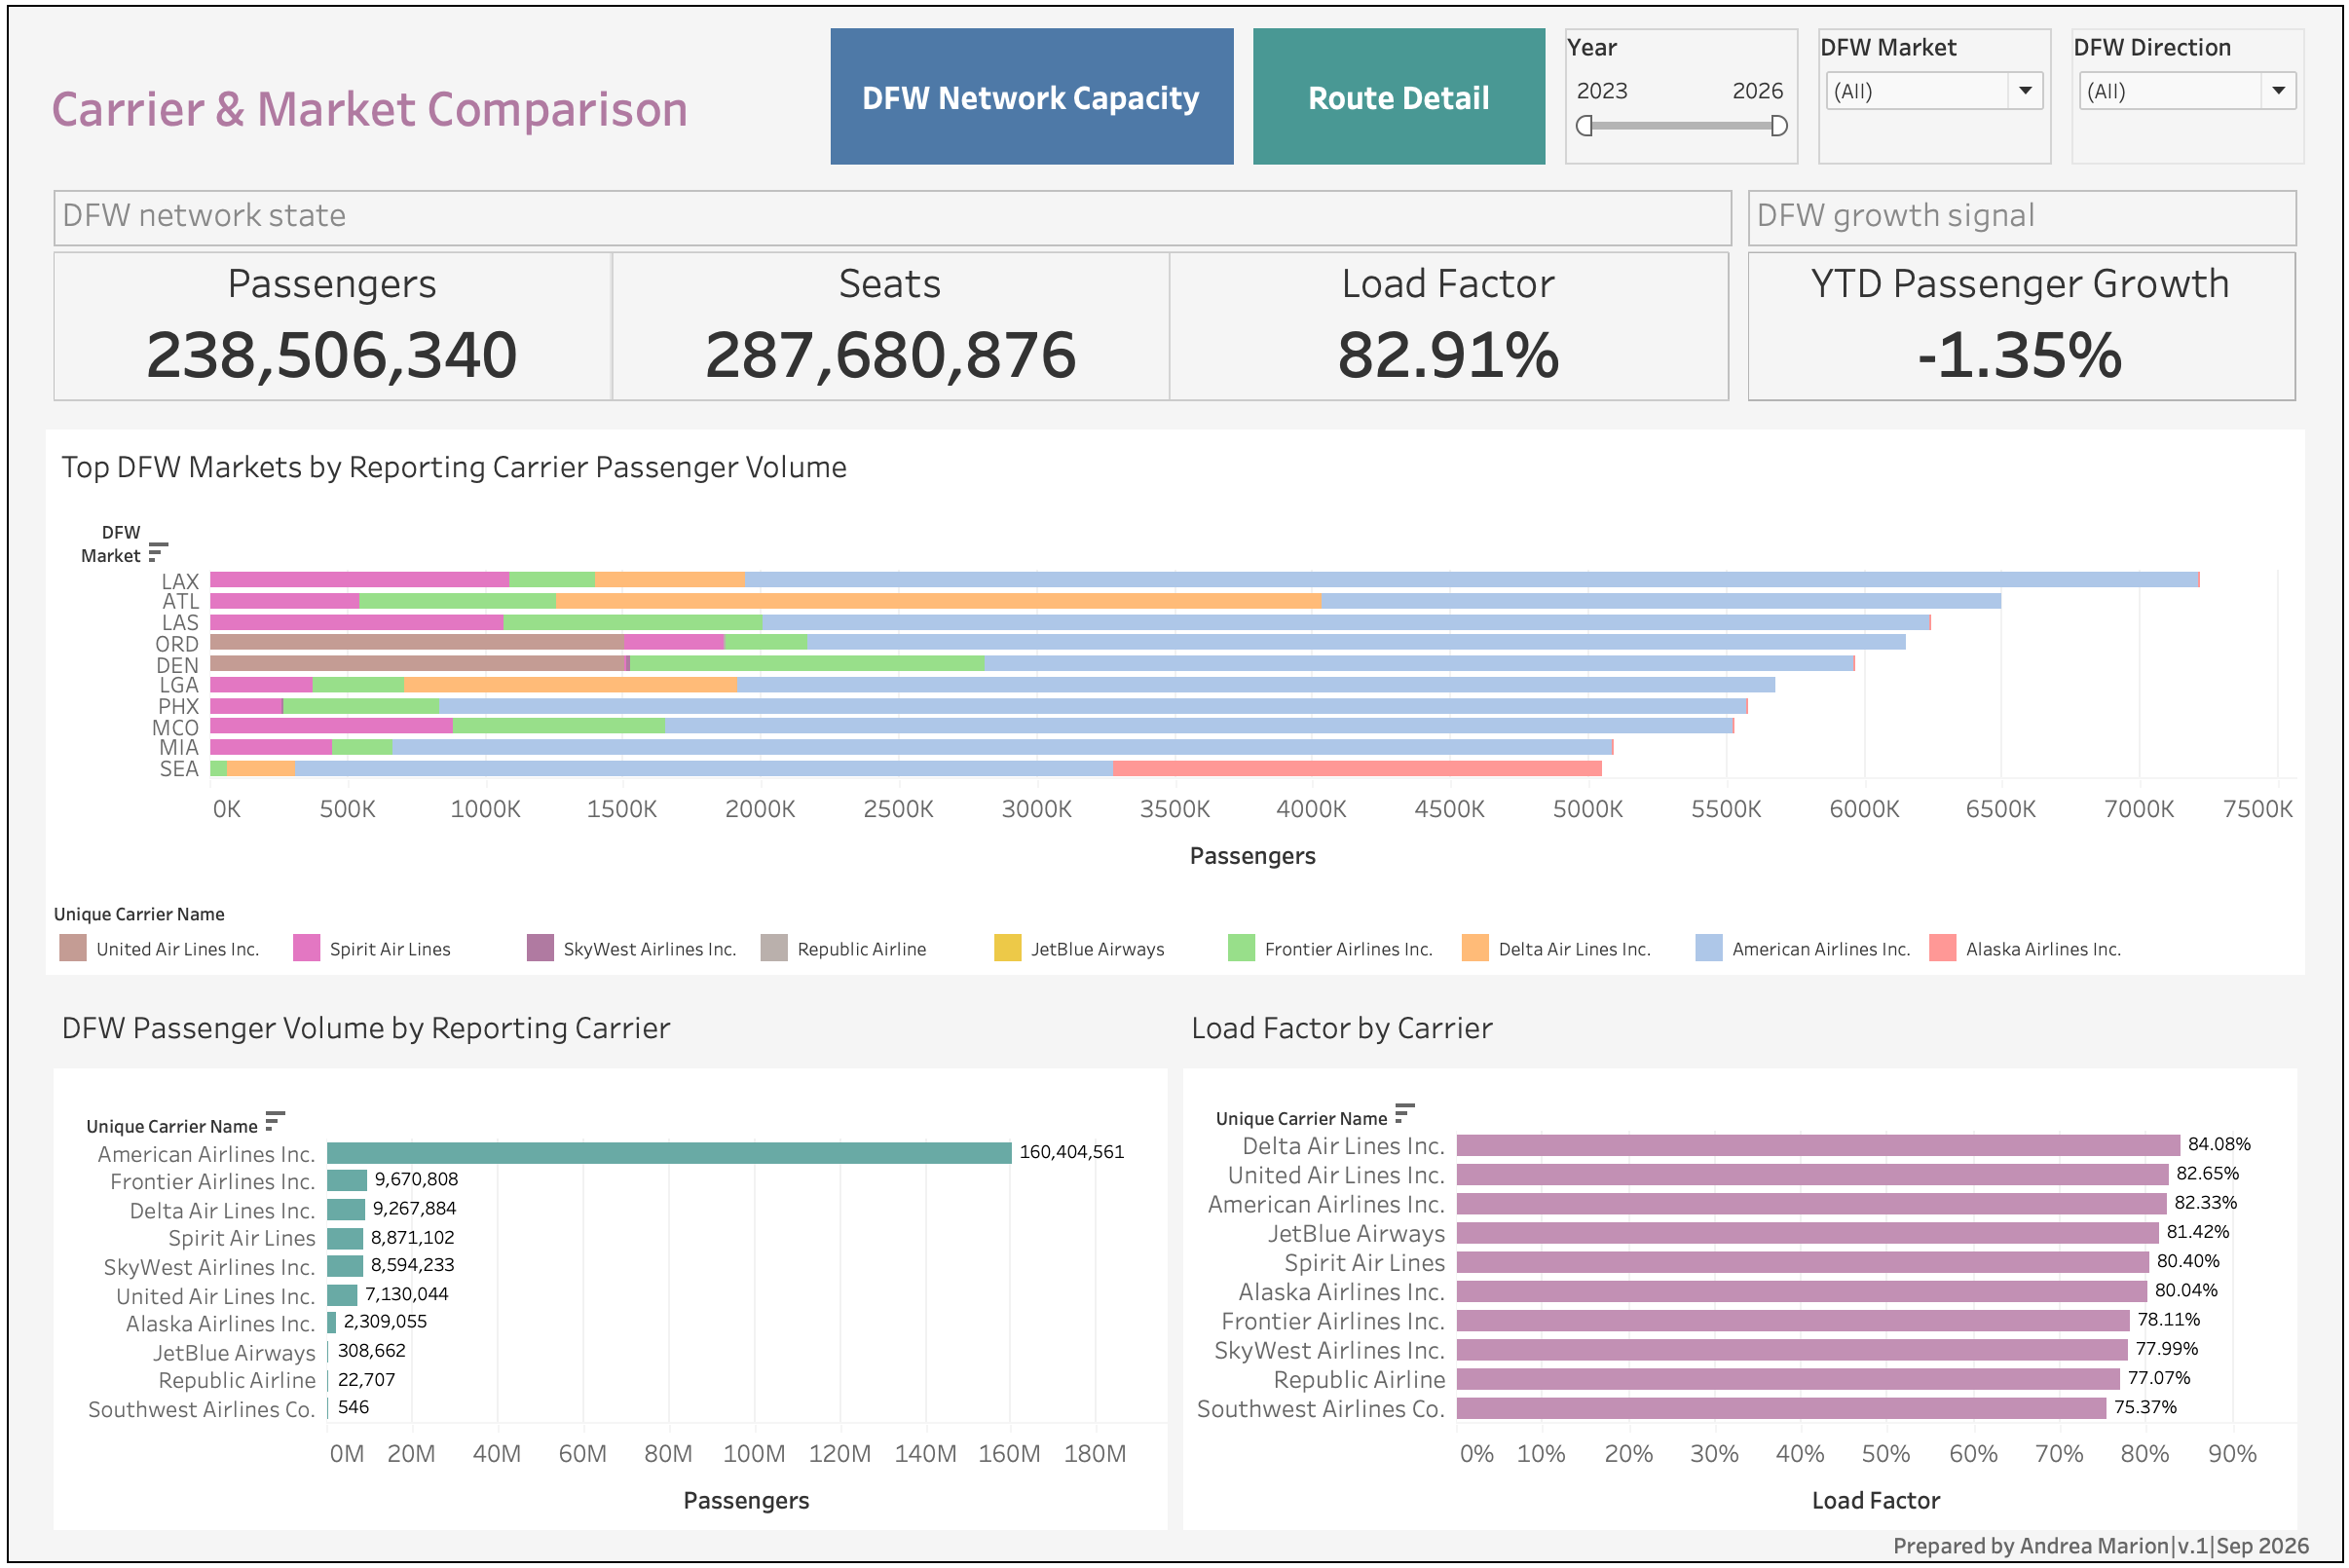

The page's visual inventory and layout, read from the dashboard file:
{"tool":"tableau","page":{"name":"Carrier / Market Comparison","canvas":[1200,800],"ordinal":0},"visuals":[{"type":"title","box":[20,12,350,80]},{"type":"dashboard-object","box":[423,12,207,70]},{"type":"dashboard-object","box":[640,12,150,70]},{"type":"filter","title":"DFW network state","param":"[federated.0pz7fid0twx38u115uenj1vw47gd].[none:year:qk]","box":[800,12,120,70]},{"type":"filter","title":"DFW growth signal","param":"[federated.0pz7fid0twx38u115uenj1vw47gd].[none:Calculation_4628301575823366:nk]","box":[930,12,120,70]},{"type":"filter","title":"DFW Passenger Volume by Reporting Carrier","param":"[federated.0pz7fid0twx38u115uenj1vw47gd].[none:Calculation_4628301569839109:nk]","box":[1060,12,120,70]},{"type":"worksheet","title":"DFW network state","mark":"Text","box":[20,91,869.7,117]},{"type":"worksheet","title":"DFW growth signal","mark":"Text","box":[889.8,91,290.2,117]},{"type":"worksheet","title":"Top DFW Markets by Reporting Carrier Passenger Volume","mark":"Automatic","rows":["Calculation_4628301575823366"],"cols":["passengers"],"box":[20,218,1160,238]},{"type":"legend","title":"Top DFW Markets by Reporting Carrier Passenger Volume","param":"[federated.0pz7fid0twx38u115uenj1vw47gd].[none:unique_carrier_name:nk]","box":[20,456,1160,42]},{"type":"worksheet","title":"DFW Passenger Volume by Reporting Carrier","mark":"Automatic","rows":["unique_carrier_name"],"cols":["passengers"],"box":[20,506,580,281]},{"type":"worksheet","title":"Load Factor by Carrier","mark":"Automatic","rows":["unique_carrier_name"],"cols":["Calculation_4628301567057920"],"box":[600,506,580,281]}]}

Visuals, with their boxes in screenshot pixels (x1, y1, x2, y2), scaled from the page's 1200x800 canvas onto the 2349x1568 screenshot:
title: {"left": 39, "top": 23, "right": 725, "bottom": 180}
dashboard-object: {"left": 828, "top": 23, "right": 1233, "bottom": 161}
dashboard-object: {"left": 1252, "top": 23, "right": 1547, "bottom": 161}
"DFW network state" filter: {"left": 1566, "top": 23, "right": 1801, "bottom": 161}
"DFW growth signal" filter: {"left": 1820, "top": 23, "right": 2055, "bottom": 161}
"DFW Passenger Volume by Reporting Carrier" filter: {"left": 2075, "top": 23, "right": 2310, "bottom": 161}
"DFW network state" worksheet (Text marks): {"left": 39, "top": 178, "right": 1741, "bottom": 408}
"DFW growth signal" worksheet (Text marks): {"left": 1741, "top": 178, "right": 2310, "bottom": 408}
"Top DFW Markets by Reporting Carrier Passenger Volume" worksheet: {"left": 39, "top": 428, "right": 2310, "bottom": 894}
"Top DFW Markets by Reporting Carrier Passenger Volume" legend: {"left": 39, "top": 894, "right": 2310, "bottom": 976}
"DFW Passenger Volume by Reporting Carrier" worksheet: {"left": 39, "top": 991, "right": 1174, "bottom": 1543}
"Load Factor by Carrier" worksheet: {"left": 1174, "top": 991, "right": 2310, "bottom": 1543}
